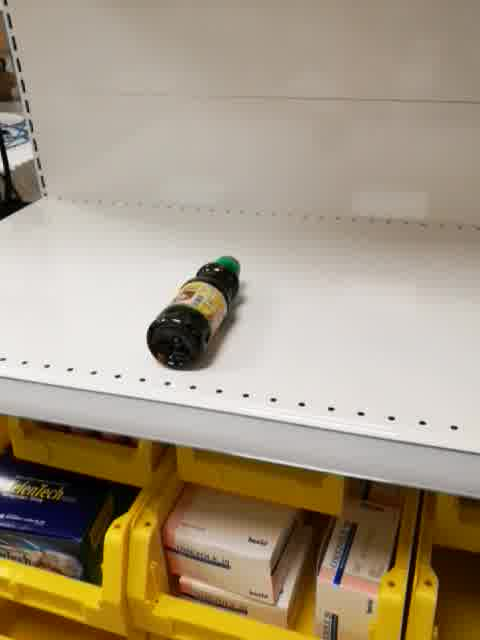cookingoil: (143, 254, 241, 373)
